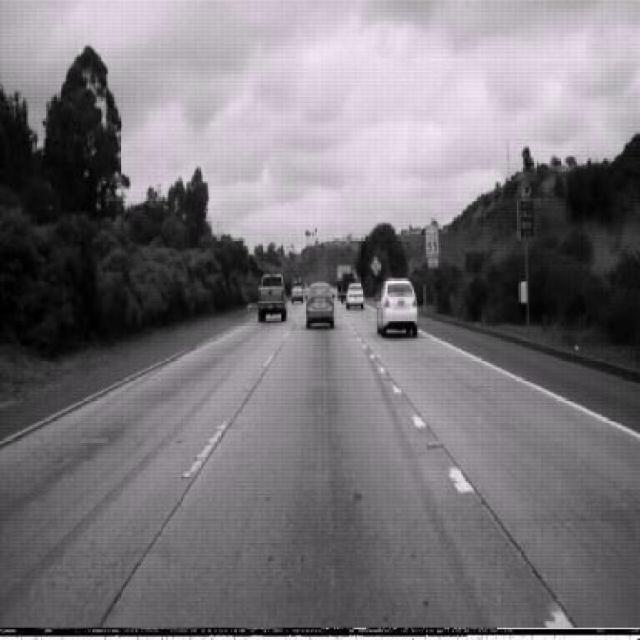truckSpeedLimit55: (425, 223, 440, 258)
